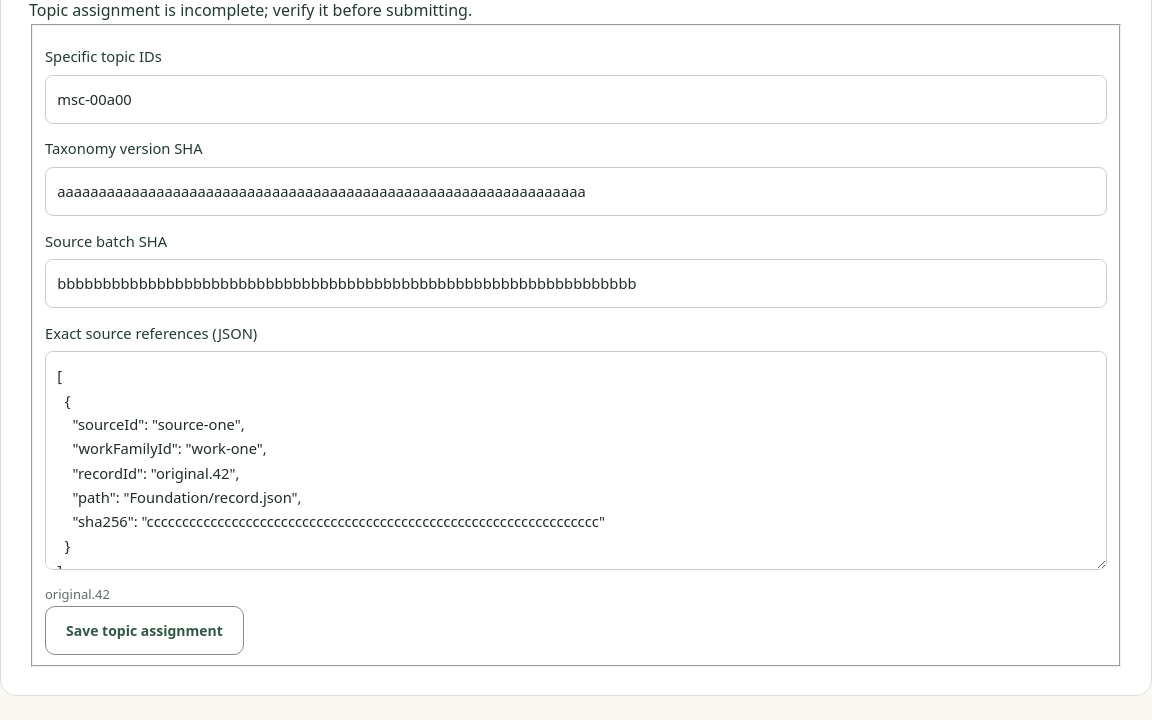
Test: saves the exact knowledge, source identity and current revisions without submitting a parent form
(page scrolled)
Click the button "Save topic assignment" at (144, 631), box [45,606,244,655]
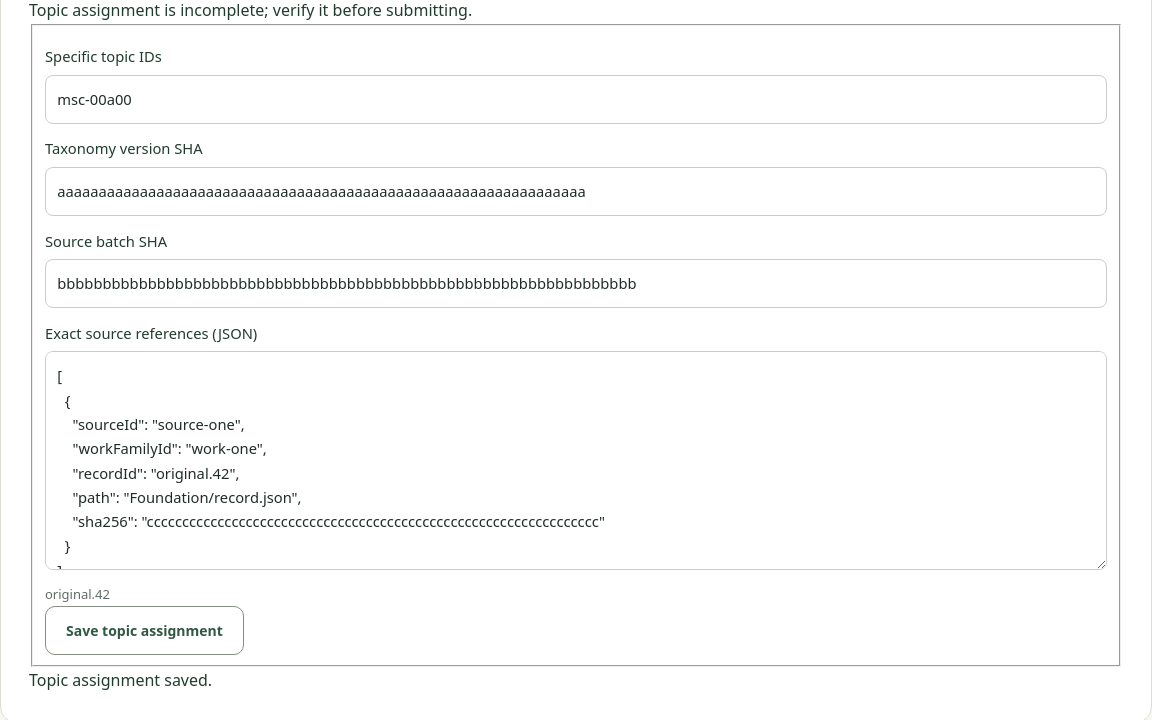
Expected: the text "original.42" is shown, [45,585,110,603]
Result: the text "Topic assignment saved." is shown at [29,669,212,691]
